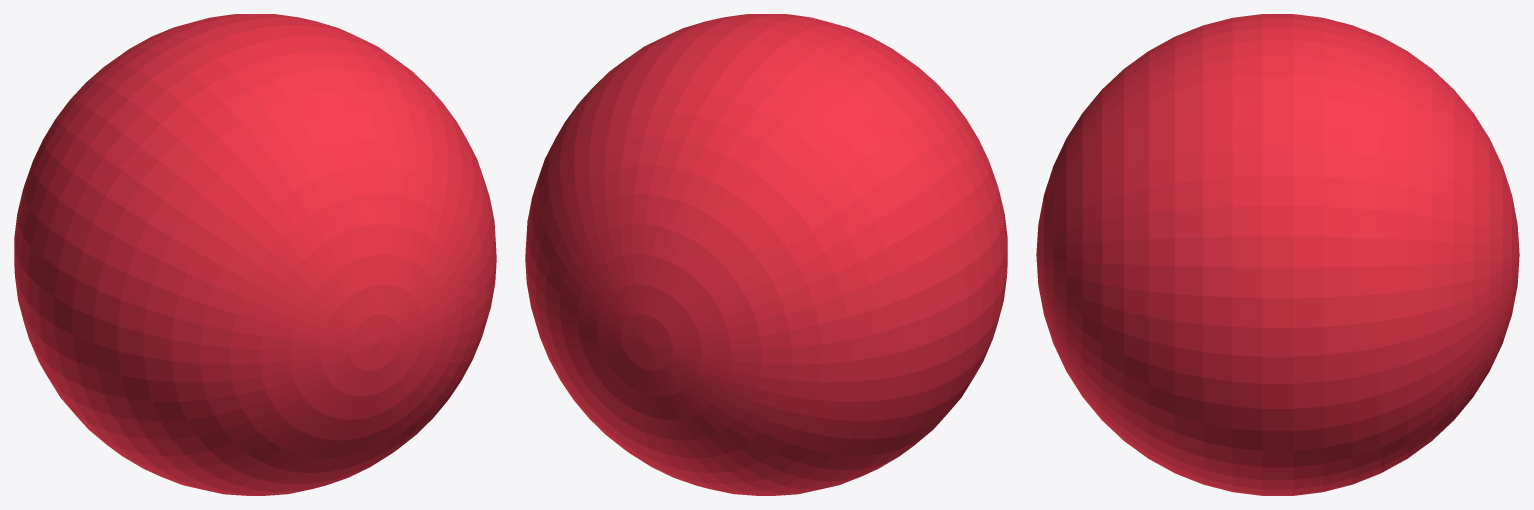
File: red_ball.dae
3 renders of one model, left to right at view 1: azimuth 30°, elevation 25°; view 2: azimuth 150°, elevation 25°; view 3: azimuth 270°, elevation 25°, orthographic.
Parts seen in each view (by area): view 1: node0; view 2: node0; view 3: node0.
Boxes of the visible parts, x1,y1,x2,y2 form: node0: (14,14,496,495); node0: (525,14,1007,495); node0: (1036,14,1519,495).
Size of the model in its own units: 0.1894 by 0.19 by 0.1895.
